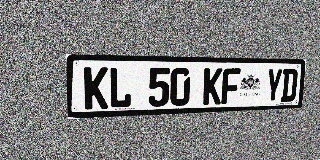0: (170, 68, 191, 106)
5: (149, 67, 170, 107)
D: (280, 69, 298, 102)
F: (221, 68, 241, 104)
K: (84, 67, 108, 109), (203, 68, 223, 105)
L: (109, 67, 132, 109)
Y: (265, 69, 283, 103)
